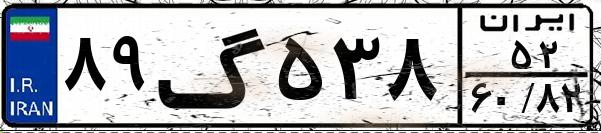0: (495, 70, 520, 125)
2: (560, 70, 590, 125), (537, 27, 568, 80)
3: (330, 28, 385, 110)
5: (270, 28, 330, 110), (508, 27, 537, 80)
6: (470, 70, 495, 125)
8: (385, 28, 445, 110), (57, 26, 110, 100), (535, 70, 560, 125)
9: (110, 28, 156, 98)
گ: (156, 12, 270, 120)
